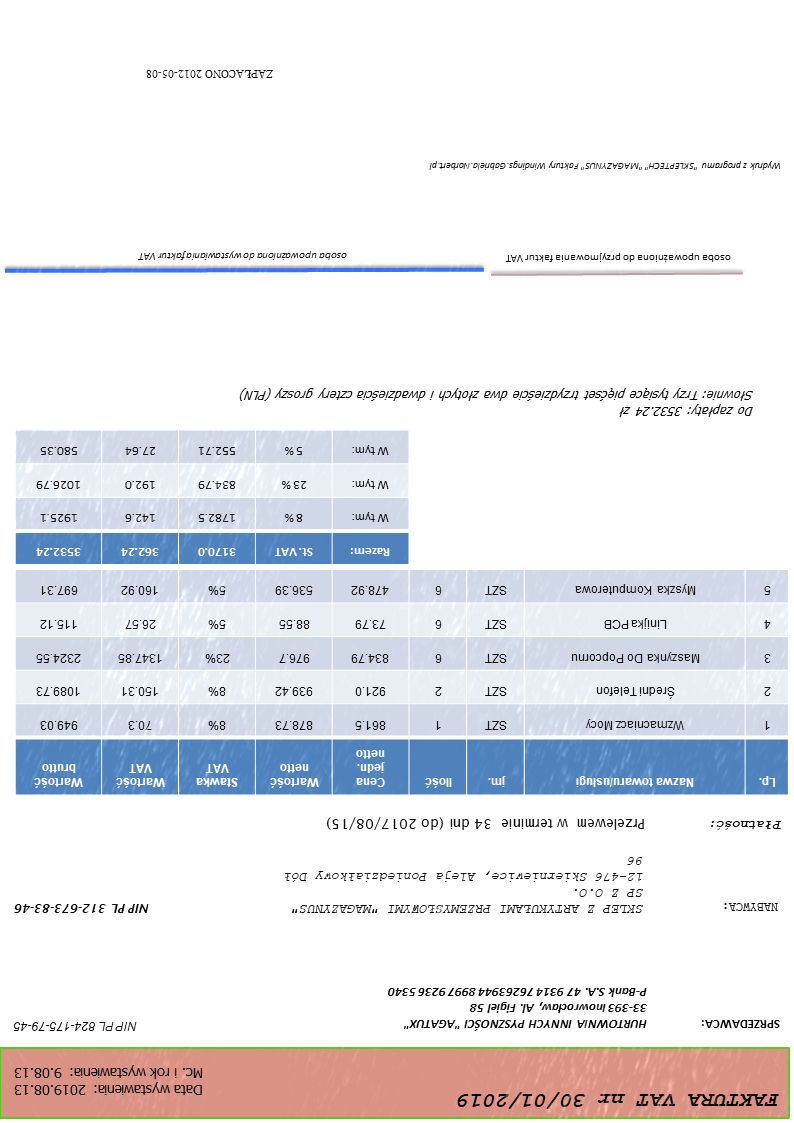Table: (14, 568, 790, 797), (14, 430, 410, 566), (238, 385, 756, 421)
TextBox: (281, 853, 648, 918), (386, 984, 650, 1032), (456, 1088, 782, 1113), (12, 1065, 207, 1100), (325, 815, 648, 833), (427, 158, 784, 174), (504, 251, 735, 265), (136, 249, 350, 263), (12, 900, 153, 917), (12, 1018, 140, 1035), (145, 68, 275, 82), (700, 1016, 783, 1032), (709, 817, 783, 834), (721, 901, 782, 915)
